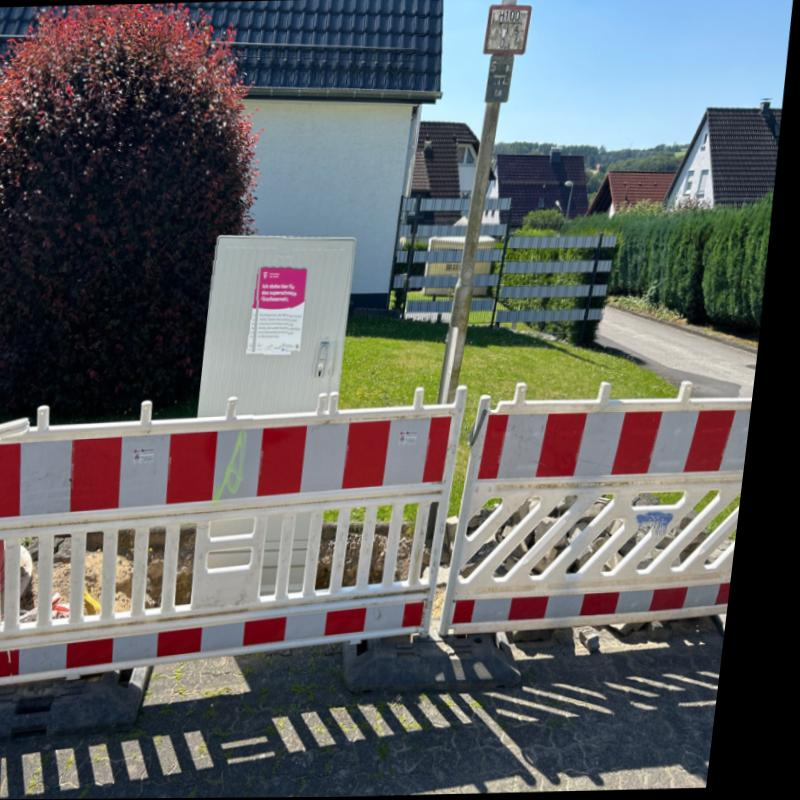NT-Gehause: (204, 234, 364, 421)
Steaker: (258, 265, 318, 352)
